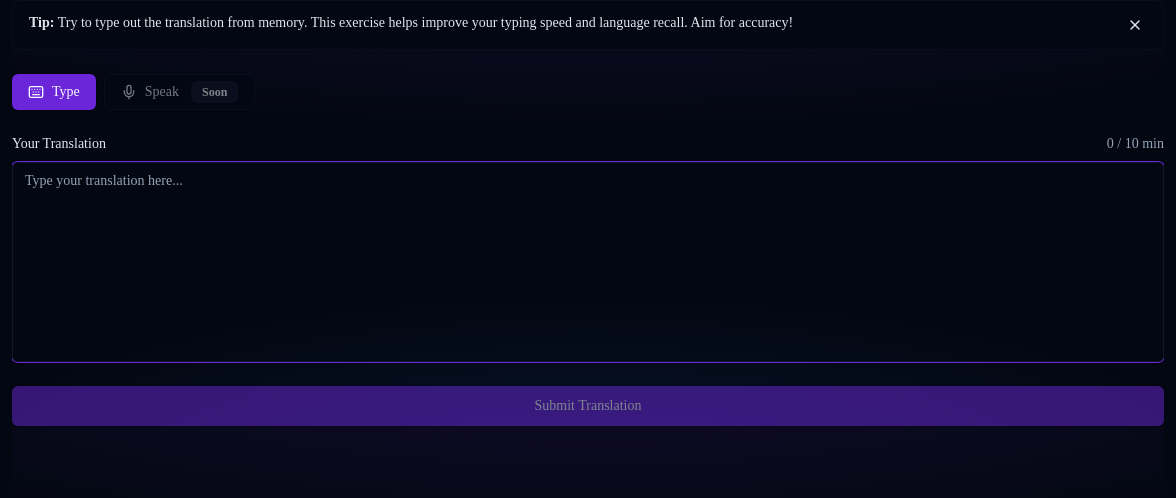
Test: ExerciseForm › updates character count as user types
expect the text "0 / 10 min" is shown: met, box [1107,134,1164,154]
In the text box with placeholder "Type your translation here...": (588, 262) [12,162,1164,362], type "Hello World"
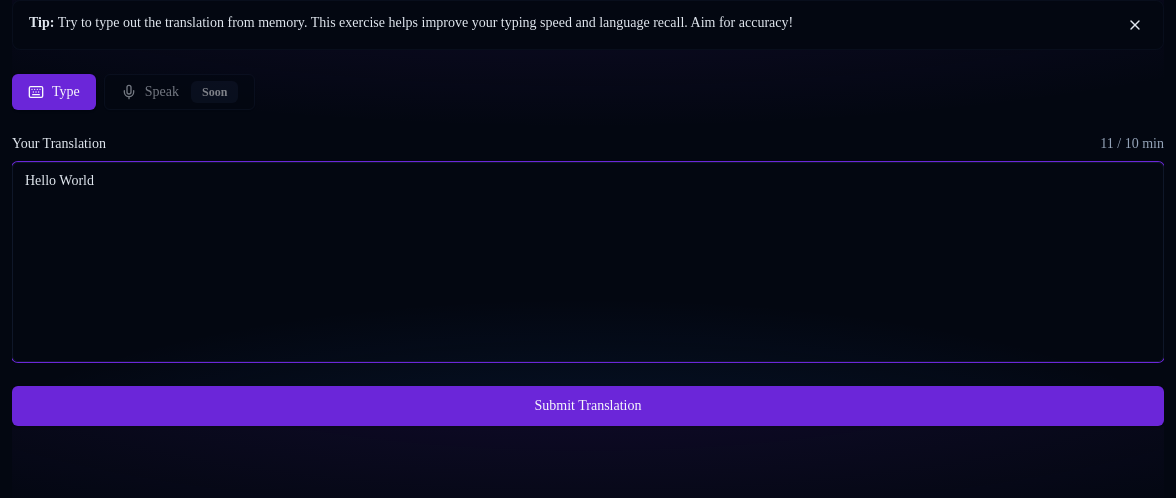
expect the text "11 / 10 min" is shown: met, box [1100,134,1164,154]
